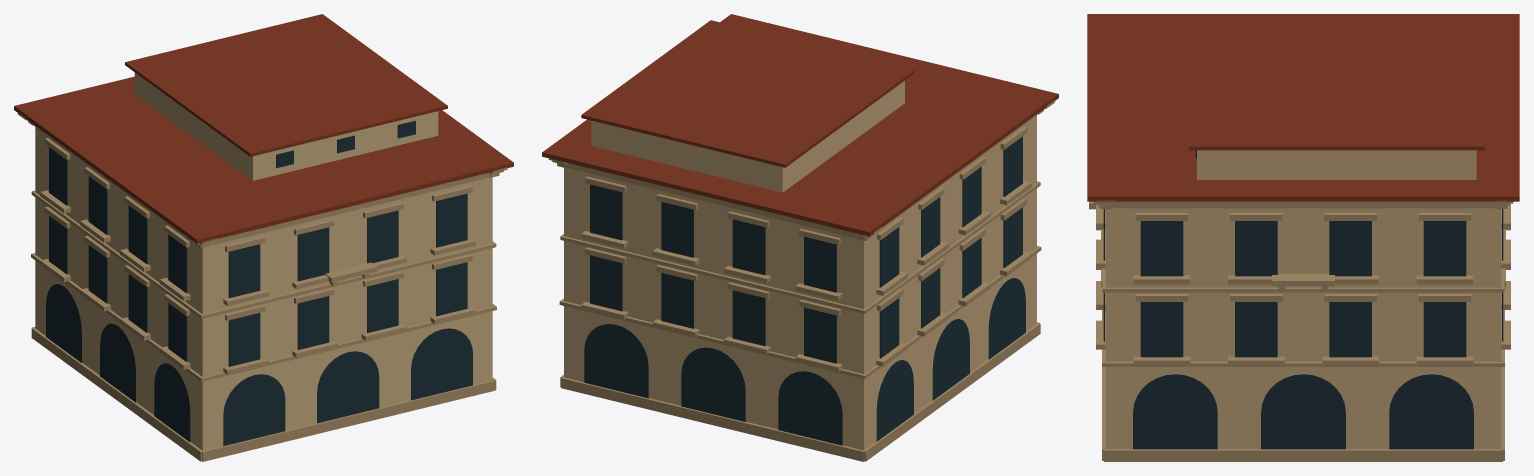
Rendered from distant-stepped.glb.
3 views of the same model, side by side, from view 1: azimuth 30°, elevation 25°; view 2: azimuth 150°, elevation 25°; view 3: azimuth 270°, elevation 25° (orthographic). The views are drawn at different scales.
Parts seen in each view (by area): view 1: Barrel terracotta, Lime plaster, Deep blue glazing, Honey limestone; view 2: Lime plaster, Barrel terracotta, Deep blue glazing, Honey limestone; view 3: Barrel terracotta, Lime plaster, Deep blue glazing, Honey limestone.
Part boxes in pixels (<box>): Barrel terracotta: <box>14,14,513,243</box>; Lime plaster: <box>35,72,492,450</box>; Deep blue glazing: <box>46,120,472,446</box>; Honey limestone: <box>17,112,507,461</box>; Lime plaster: <box>564,80,1036,450</box>; Barrel terracotta: <box>542,14,1058,236</box>; Deep blue glazing: <box>584,136,1025,445</box>; Honey limestone: <box>548,100,1054,461</box>; Barrel terracotta: <box>1087,14,1519,201</box>; Lime plaster: <box>1105,150,1501,448</box>; Deep blue glazing: <box>1103,150,1503,449</box>; Honey limestone: <box>1089,200,1513,461</box>.
Bounding box in the file's own units: 13 × 10.22 × 13.
